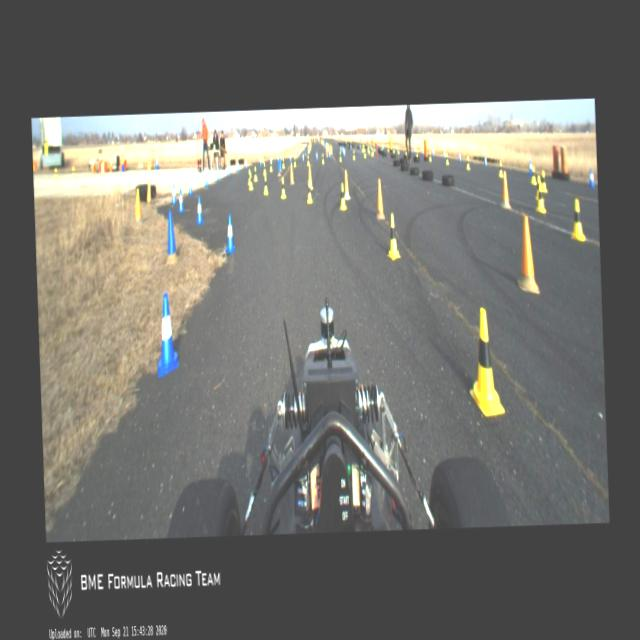blue_cone: (154, 292, 179, 379), (224, 214, 235, 254), (194, 195, 203, 224), (178, 188, 185, 214), (170, 182, 177, 205), (588, 167, 594, 189), (186, 177, 192, 196), (216, 166, 221, 182), (528, 160, 533, 176), (204, 172, 208, 188), (226, 162, 230, 176), (457, 150, 461, 163), (236, 160, 240, 172), (483, 154, 487, 166), (244, 158, 248, 169), (442, 150, 447, 158), (430, 148, 434, 158), (315, 150, 318, 162), (327, 148, 330, 160), (259, 155, 262, 166), (349, 141, 352, 150), (302, 151, 304, 164), (343, 145, 345, 156), (289, 152, 291, 162), (420, 148, 422, 156)
yellow_cone: (466, 304, 506, 418), (385, 212, 401, 260), (570, 197, 586, 243), (534, 180, 546, 213), (338, 182, 347, 211), (539, 172, 546, 197), (306, 180, 312, 204), (530, 164, 536, 187), (262, 174, 268, 196), (280, 176, 286, 198), (497, 158, 503, 178), (246, 168, 252, 184), (248, 172, 253, 190), (254, 166, 258, 182), (466, 155, 470, 170), (262, 162, 266, 176), (428, 148, 432, 162), (281, 156, 285, 169), (444, 152, 448, 165), (269, 160, 273, 172), (292, 156, 296, 168), (306, 154, 310, 165), (321, 152, 324, 165), (352, 148, 355, 160), (370, 146, 373, 156), (415, 147, 418, 156), (339, 150, 341, 162), (363, 148, 365, 158), (397, 143, 399, 153), (368, 144, 370, 154), (404, 147, 406, 155), (392, 144, 394, 152), (386, 144, 388, 152), (373, 143, 375, 151), (381, 143, 382, 151)
